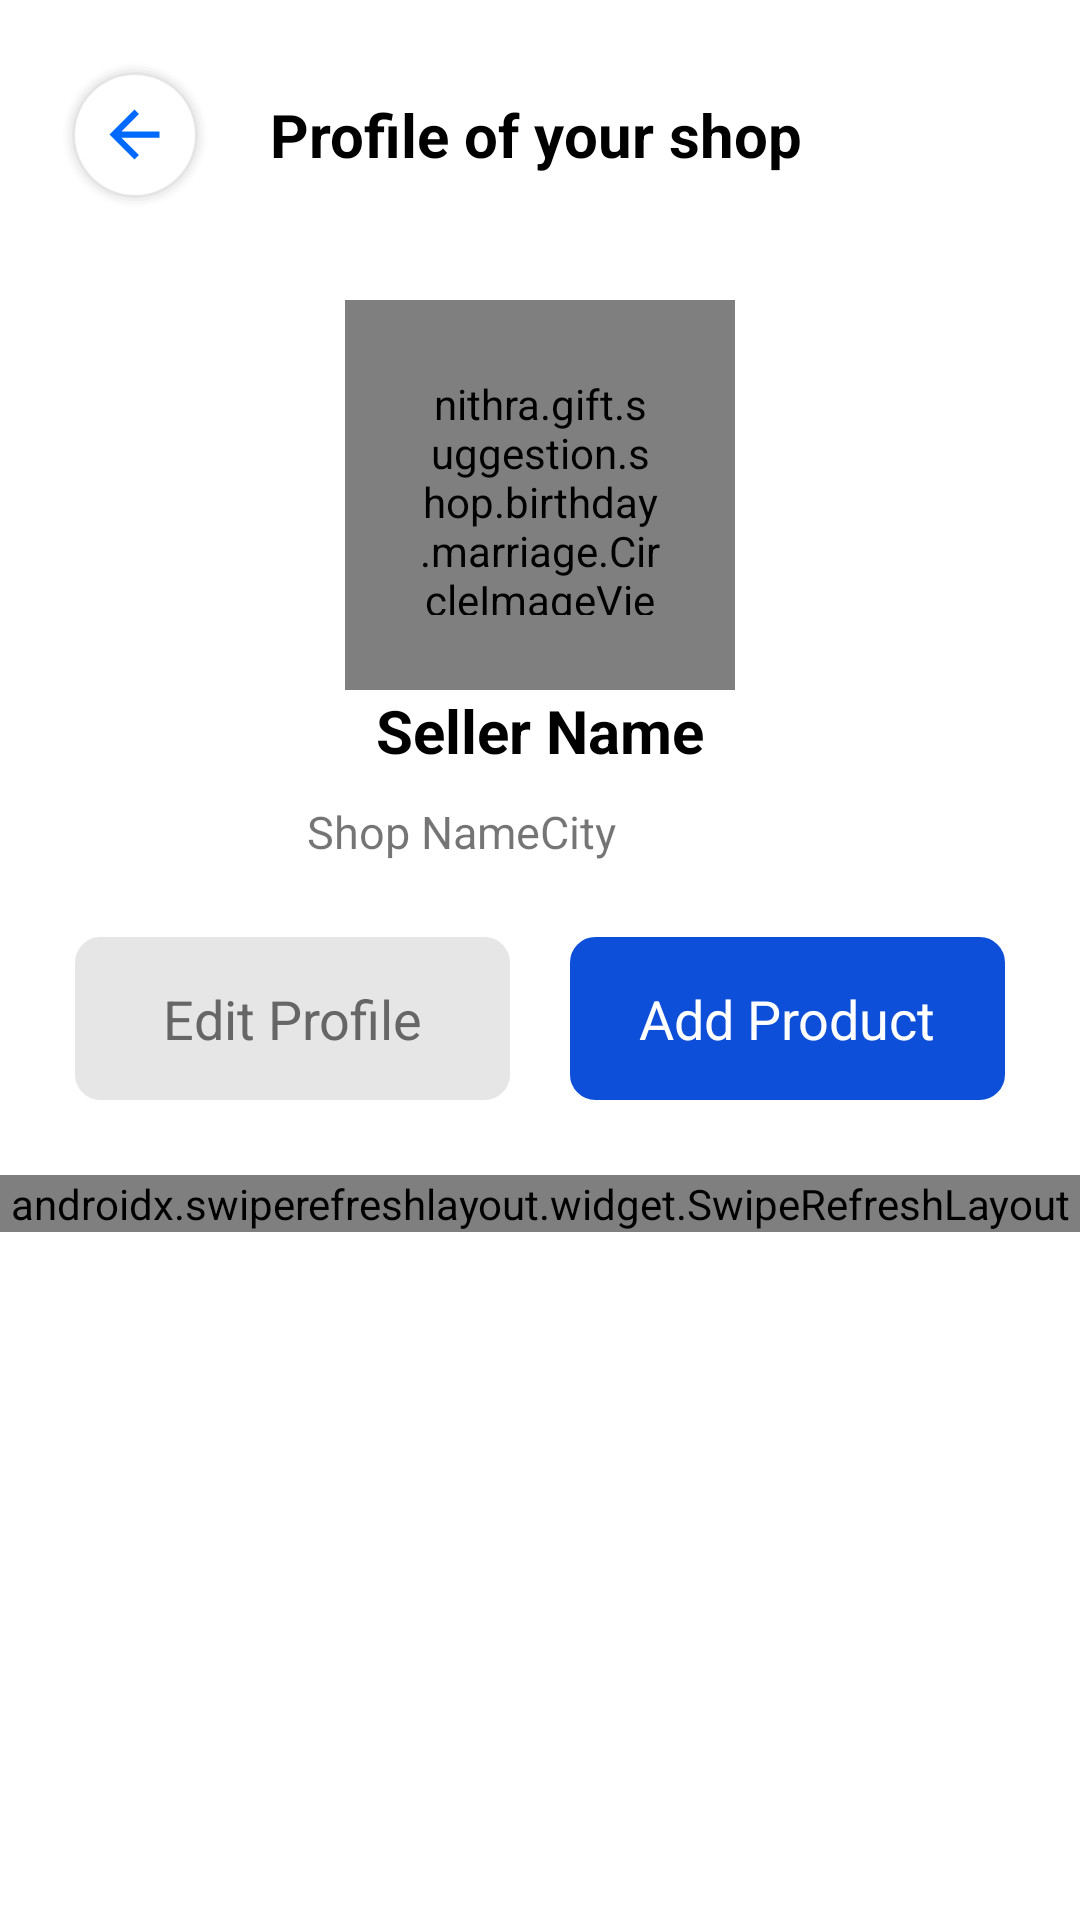

Named icons in this screenshot (1080 × 1920) and their centers, (x,y):
arrow back: (134,134)
